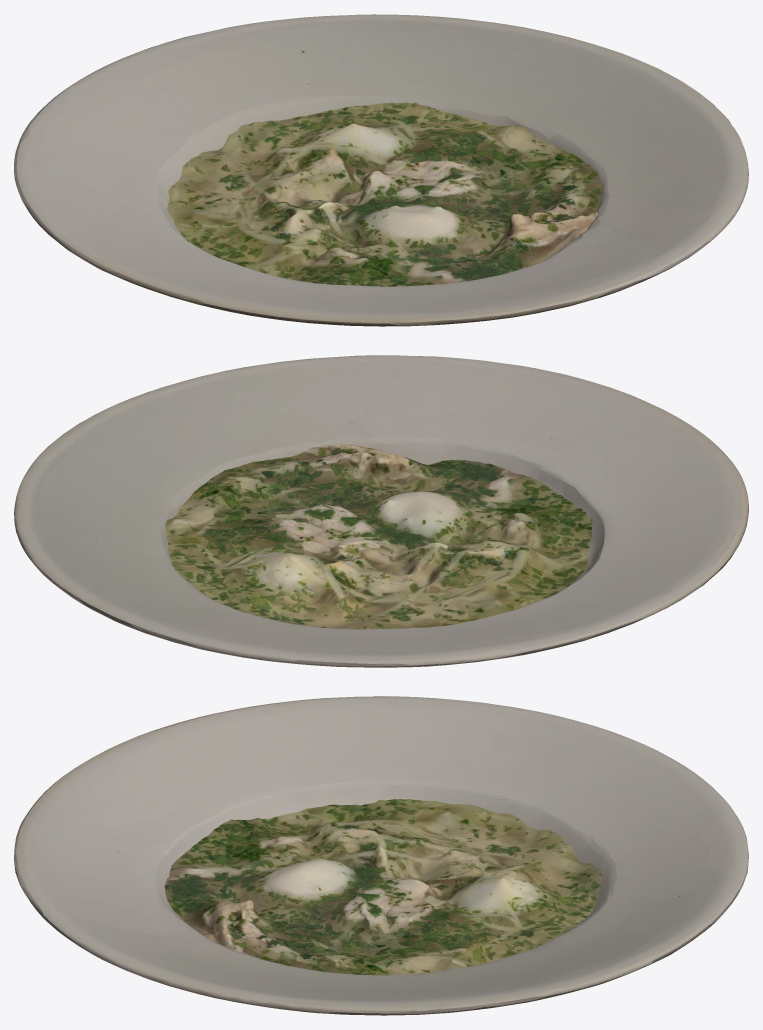
3 views of the same model, one above another, from view 1: azimuth 30°, elevation 25°; view 2: azimuth 150°, elevation 25°; view 3: azimuth 270°, elevation 25° (orthographic).
Visible parts, largest first — view 1: /Root/Scenes/Scene/Object_250/Object_252/Object_253/Submesh_, /Root/Scenes/Scene/Object_250/Object_251/Submesh_0; view 2: /Root/Scenes/Scene/Object_250/Object_252/Object_253/Submesh_, /Root/Scenes/Scene/Object_250/Object_251/Submesh_0; view 3: /Root/Scenes/Scene/Object_250/Object_252/Object_253/Submesh_, /Root/Scenes/Scene/Object_250/Object_251/Submesh_0.
Boxes of the visible parts, box(x1,y1,x2,y2) form: /Root/Scenes/Scene/Object_250/Object_252/Object_253/Submesh_: box(14, 14, 748, 326); /Root/Scenes/Scene/Object_250/Object_251/Submesh_0: box(167, 102, 601, 286); /Root/Scenes/Scene/Object_250/Object_252/Object_253/Submesh_: box(14, 355, 748, 667); /Root/Scenes/Scene/Object_250/Object_251/Submesh_0: box(165, 443, 592, 629); /Root/Scenes/Scene/Object_250/Object_252/Object_253/Submesh_: box(14, 696, 748, 1015); /Root/Scenes/Scene/Object_250/Object_251/Submesh_0: box(164, 799, 602, 975).
Bounding box in the file's own units: 0.1994 × 0.0325 × 0.1994.
2 materials, 2 textured.
